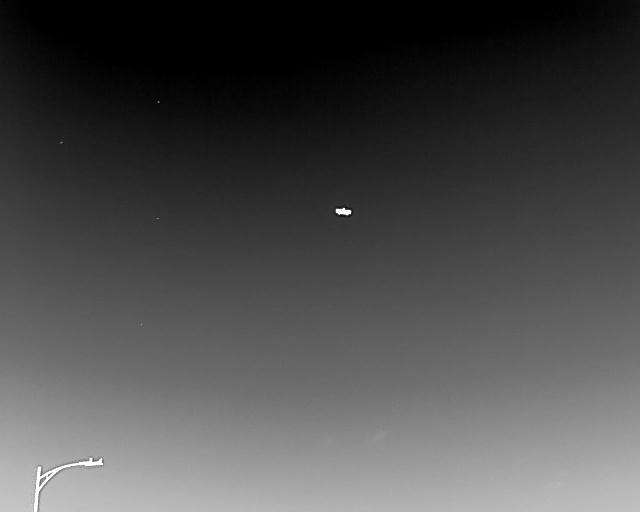fpv-drone: (334, 206, 352, 217)
